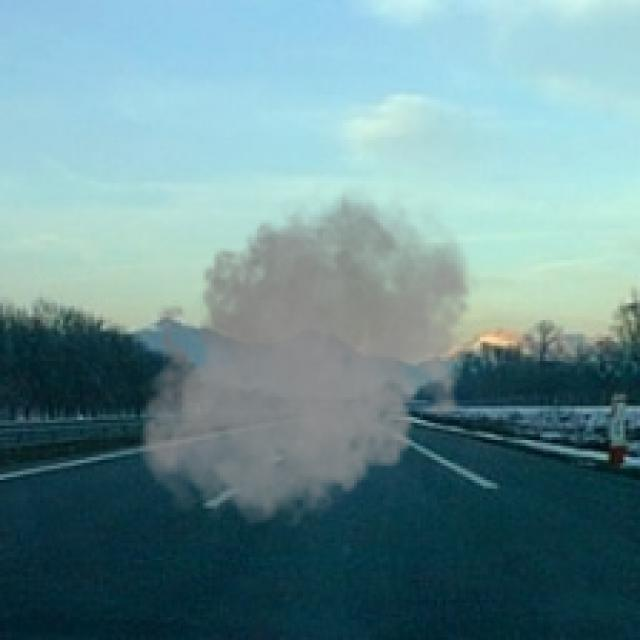Smoke: (134, 175, 483, 534)
